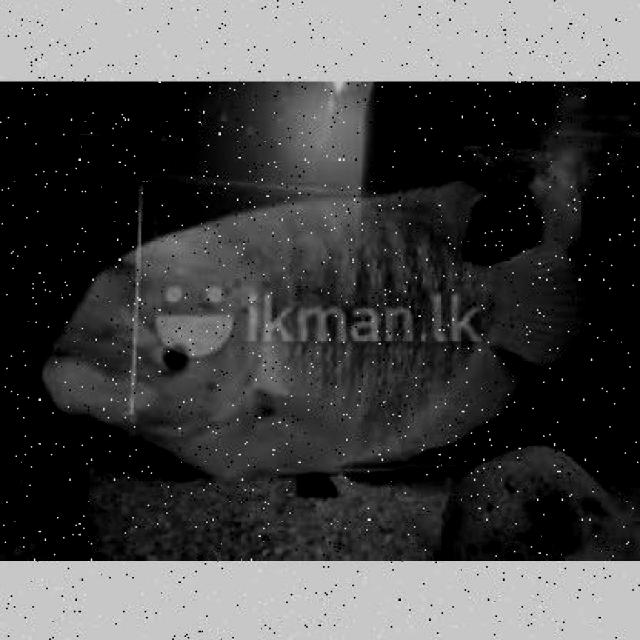gurame: (56, 184, 559, 468)
